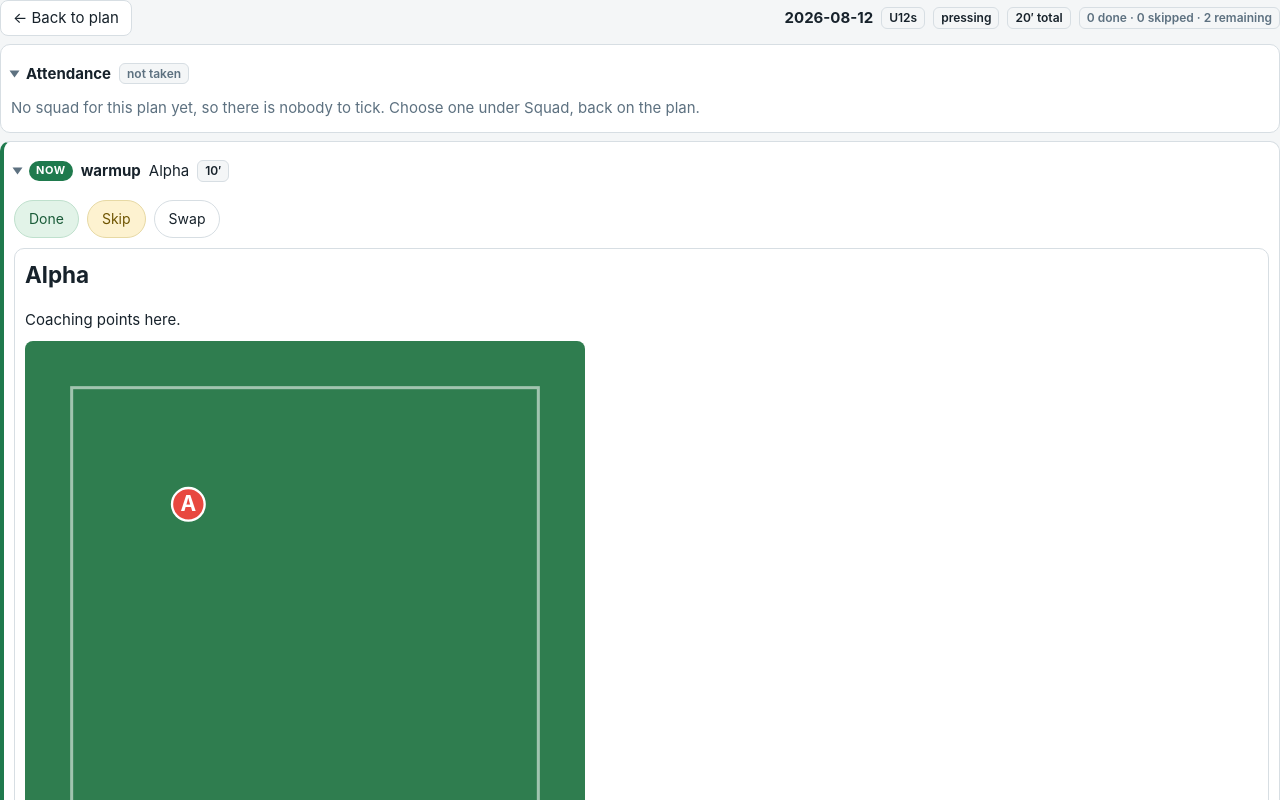
SessionRun swapping a drill › reports the block index and the chosen slug, then closes the picker
Click the button "Swap". click: {"x": 187, "y": 219}
box: [154,200,220,238]
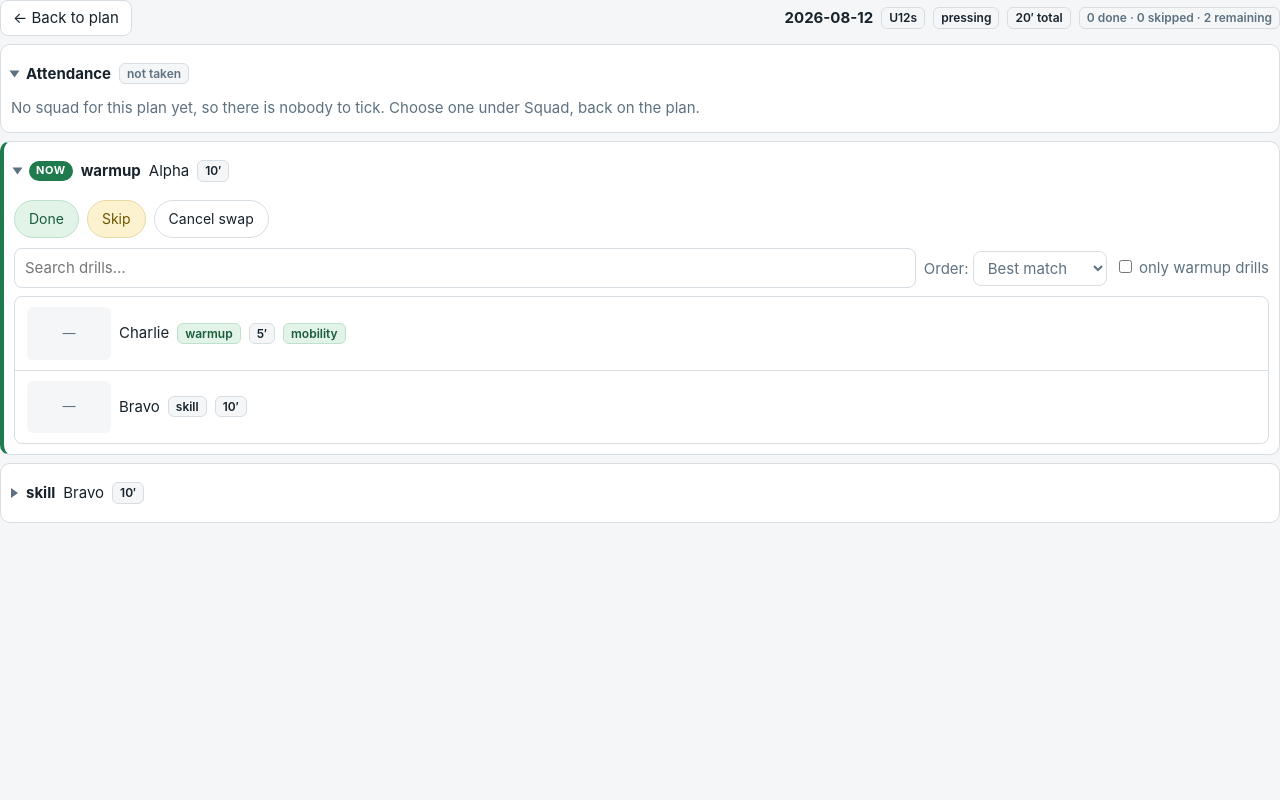
Click the button with class "drill-picker-option" showing "— Charlie warmup 5′ mobility". click: {"x": 69, "y": 333}
box: [15,297,1268,370]
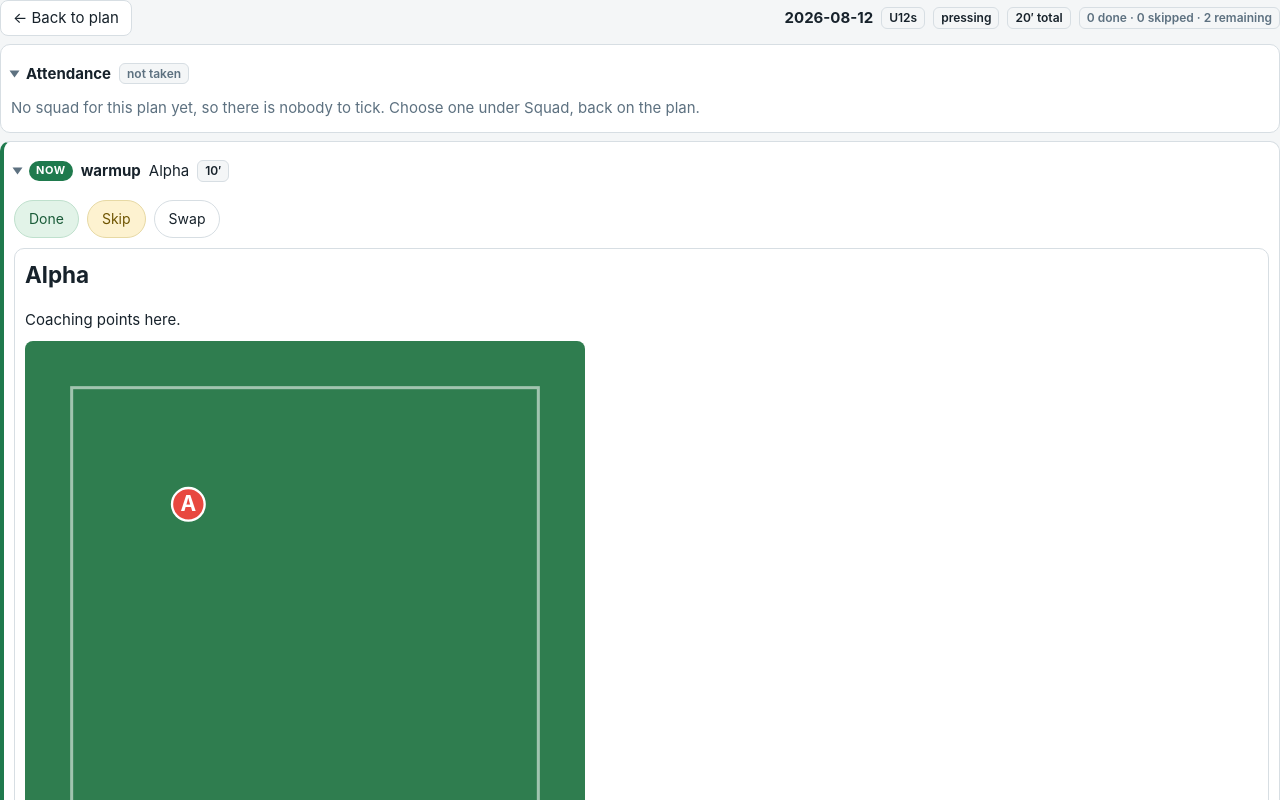
Now the element with class "drill-picker" is gone
